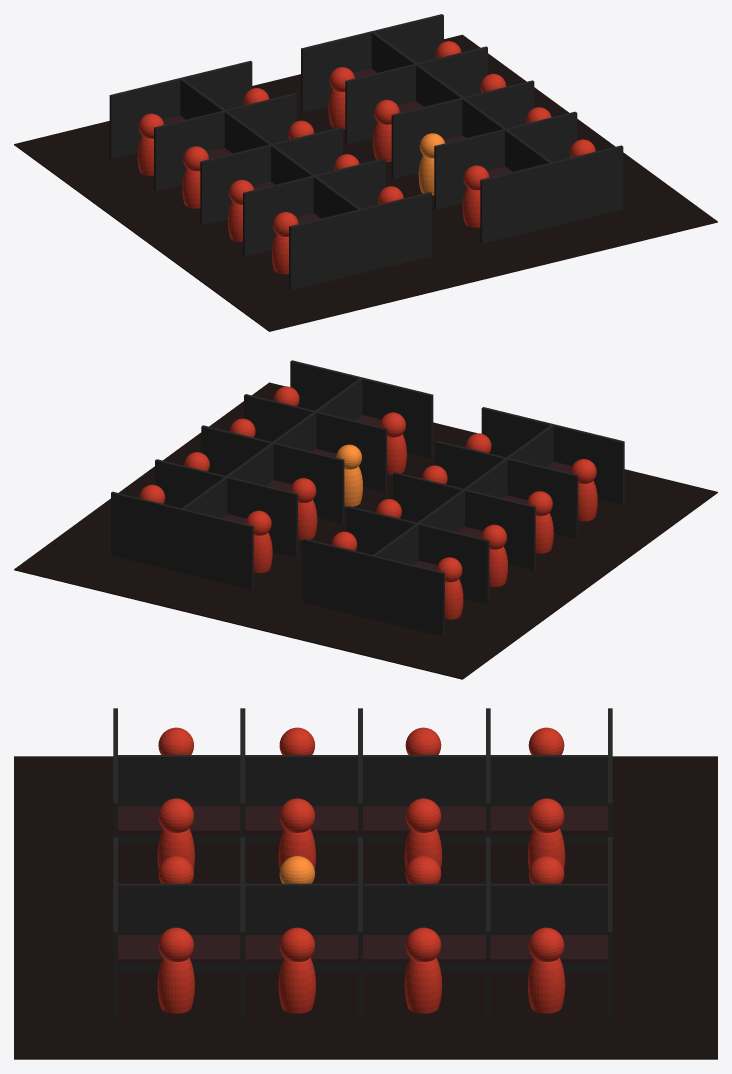
Rendered from office.obj.
3 renders of one model, top to bottom at view 1: azimuth 30°, elevation 25°; view 2: azimuth 150°, elevation 25°; view 3: azimuth 270°, elevation 25°, orthographic. The views are drawn at different scales.
Visible parts, largest first — view 1: 큐브.027_큐브.008, 큐브.008_큐브.009, 큐브.007, 큐브.011_큐브.012, 큐브.004, 큐브.006, 큐브.003, 큐브.009_큐브.010, 큐브.010_큐브.011, 큐브.012_큐브.013, 큐브.005, 큐브.002 (+9 smaller); view 2: 큐브.027_큐브.008, 큐브.012_큐브.013, 큐브.003, 큐브.010_큐브.011, 큐브.007, 큐브.005, 큐브.008_큐브.009, 큐브.006, 큐브.009_큐브.010, 큐브.004, 큐브.011_큐브.012, 큐브.013_큐브.014 (+9 smaller); view 3: 큐브.027_큐브.008, 큐브.013_큐브.014, 큐브.002, 구체.016, 구체.013, 구체.014, 구체.015, 큐브.020_큐브.022, 큐브.015_큐브.017, 큐브.018_큐브.020, 큐브.001_큐브.015, 큐브.016_큐브.018 (+25 smaller).
Part boxes in pixels (left/top/right/bottom): 큐브.027_큐브.008: left=14, top=34, right=717, bottom=331; 큐브.008_큐브.009: left=480, top=145, right=623, bottom=243; 큐브.007: left=289, top=192, right=431, bottom=290; 큐브.011_큐브.012: left=434, top=111, right=577, bottom=209; 큐브.004: left=243, top=158, right=385, bottom=256; 큐브.006: left=154, top=93, right=296, bottom=191; 큐브.003: left=109, top=60, right=252, bottom=158; 큐브.009_큐브.010: left=345, top=46, right=487, bottom=144; 큐브.010_큐브.011: left=391, top=80, right=534, bottom=178; 큐브.012_큐브.013: left=301, top=14, right=443, bottom=112; 큐브.005: left=200, top=127, right=342, bottom=225; 큐브.002: left=180, top=78, right=360, bottom=218; 큐브.027_큐브.008: left=14, top=382, right=717, bottom=679; 큐브.012_큐브.013: left=111, top=491, right=253, bottom=589; 큐브.003: left=302, top=538, right=444, bottom=636; 큐브.010_큐브.011: left=201, top=425, right=344, bottom=523; 큐브.007: left=481, top=407, right=624, bottom=505; 큐브.005: left=393, top=472, right=535, bottom=570; 큐브.008_큐브.009: left=290, top=360, right=433, bottom=458; 큐브.006: left=346, top=506, right=489, bottom=604; 큐브.009_큐브.010: left=155, top=459, right=297, bottom=557; 큐브.004: left=435, top=440, right=578, bottom=538; 큐브.011_큐브.012: left=244, top=394, right=386, bottom=492; 큐브.013_큐브.014: left=181, top=378, right=362, bottom=517; 큐브.027_큐브.008: left=14, top=756, right=717, bottom=1059; 큐브.013_큐브.014: left=118, top=883, right=609, bottom=972; 큐브.002: left=118, top=755, right=609, bottom=843; 구체.016: left=157, top=927, right=194, bottom=1013; 구체.013: left=527, top=927, right=565, bottom=1013; 구체.014: left=404, top=927, right=442, bottom=1013; 구체.015: left=278, top=927, right=315, bottom=1013; 큐브.020_큐브.022: left=118, top=935, right=240, bottom=963; 큐브.015_큐브.017: left=363, top=806, right=485, bottom=834; 큐브.018_큐브.020: left=363, top=935, right=485, bottom=963; 큐브.001_큐브.015: left=118, top=806, right=240, bottom=834; 큐브.016_큐브.018: left=490, top=806, right=607, bottom=834.
Bounding box in the file's own units: 79.56 × 10.82 × 78.43.
